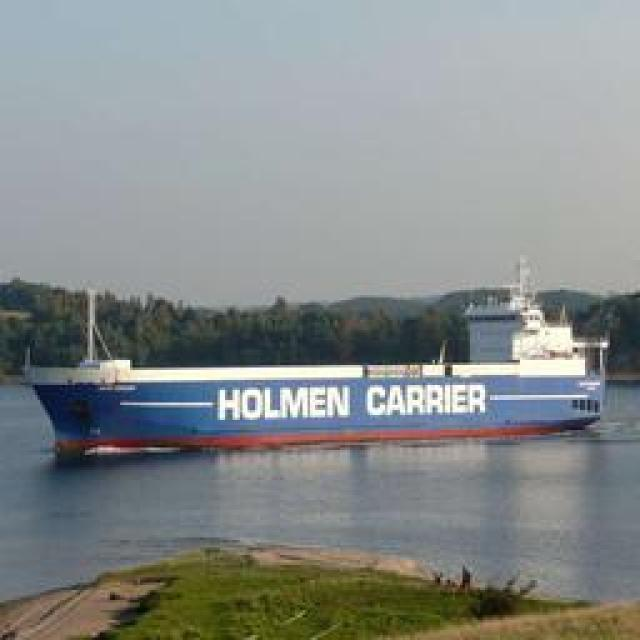CIV_Ship: (26, 298, 602, 454)
